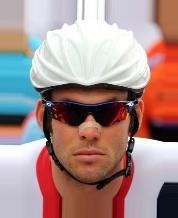face: (54, 98, 123, 163)
